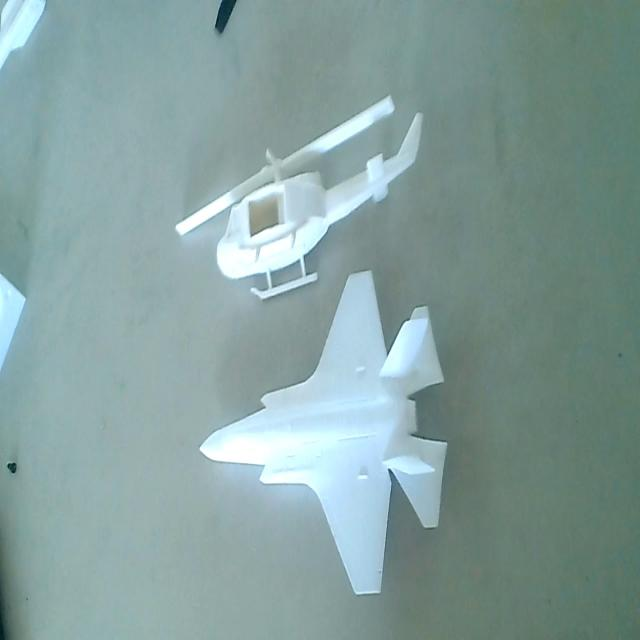Helicopter: (177, 90, 422, 302)
Jet: (196, 270, 448, 602)
